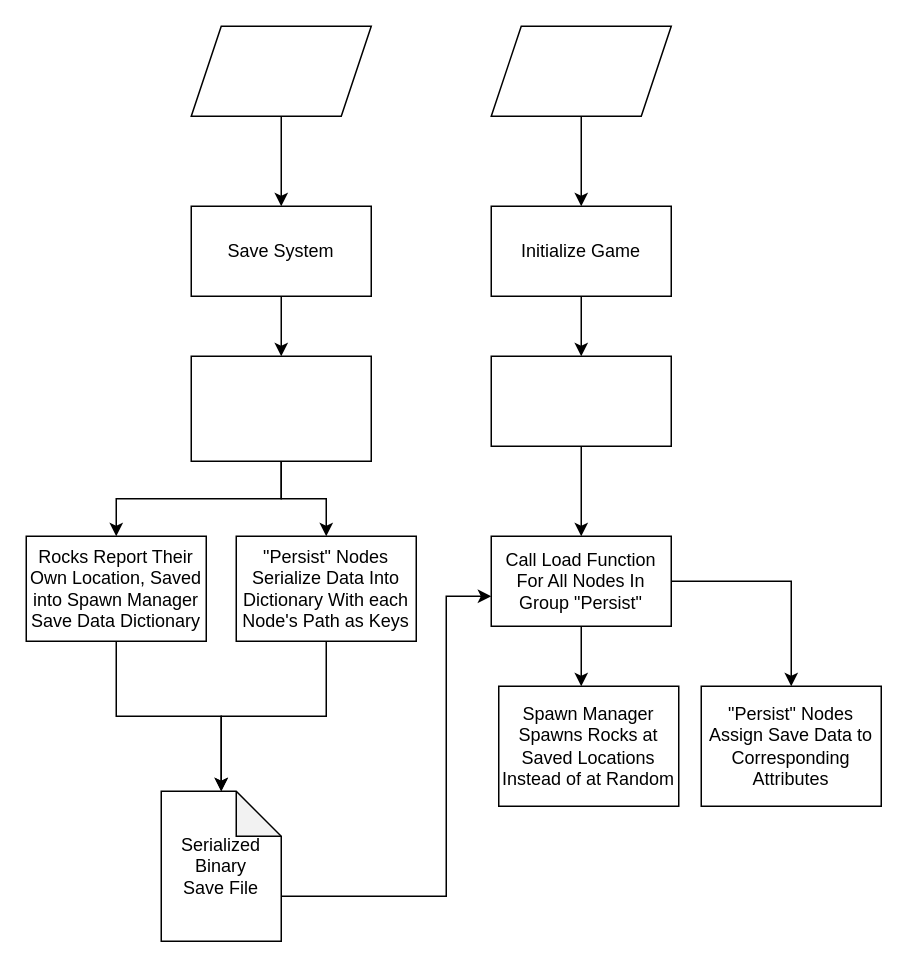
Image size: 908x968. Some labels were removed from this diagram. Each missing label, with the box of its shape:
Call Save Function For All Nodes In Group "Persist": (190, 355, 371, 461)
Load System: (490, 355, 671, 446)
Open Game: (490, 25, 671, 116)
Player Sleep: (190, 25, 371, 116)
